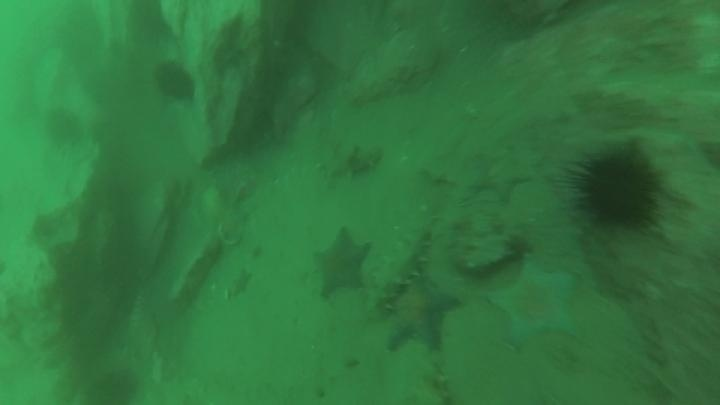echinus: (569, 148, 664, 231), (82, 365, 141, 405), (125, 1, 173, 47), (151, 59, 198, 105), (42, 105, 85, 148)
holothurian: (366, 224, 436, 318), (316, 140, 386, 183)
starfish: (485, 257, 582, 352), (382, 278, 462, 355), (309, 226, 374, 301), (467, 153, 534, 204)
